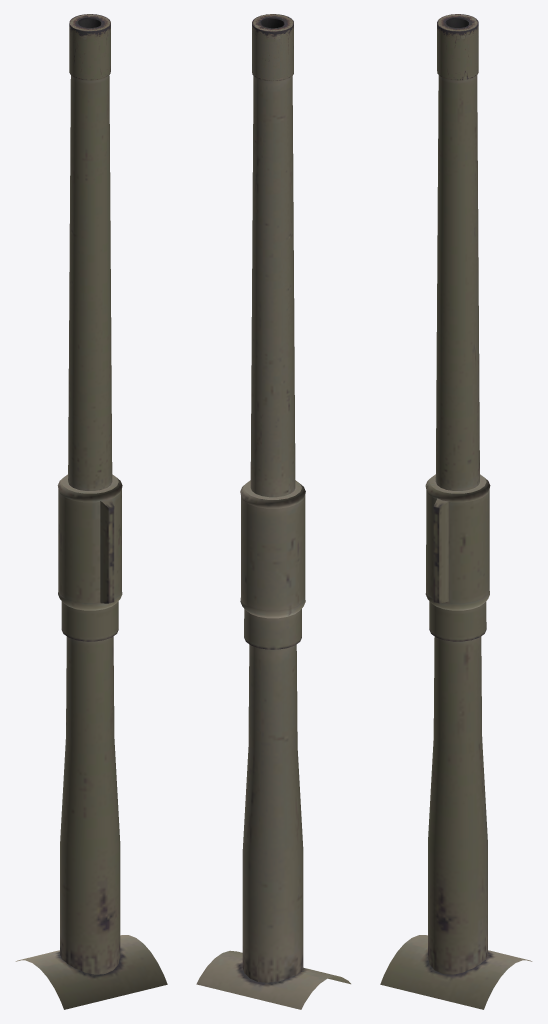
Rendered from Gun_02.glb.
The picture shows the model from 3 angles, left to right: view 1: azimuth 30°, elevation 25°; view 2: azimuth 150°, elevation 25°; view 3: azimuth 330°, elevation 25°; orthographic projection.
Visible parts, largest first — view 1: set_0_group_0; view 2: set_0_group_0; view 3: set_0_group_0.
Part boxes in pixels (box(x1,y1,x2,y2)): set_0_group_0: box(15, 14, 167, 1009); set_0_group_0: box(196, 14, 350, 1009); set_0_group_0: box(380, 14, 532, 1009).
Size of the model in its own units: 0.4409 by 3.88 by 0.3673.
Materials: 1 (1 with a texture image).
